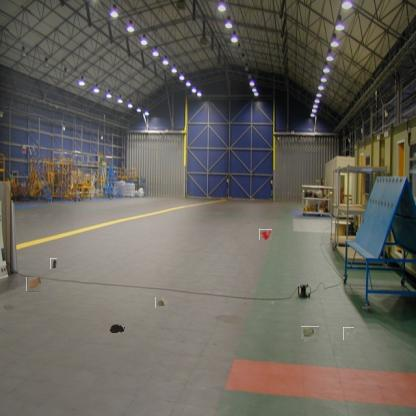dirty: (303, 325, 318, 341), (27, 277, 41, 292), (155, 296, 168, 308), (342, 328, 355, 339), (50, 258, 57, 269)
liquid: (108, 324, 124, 334), (259, 229, 272, 240)
